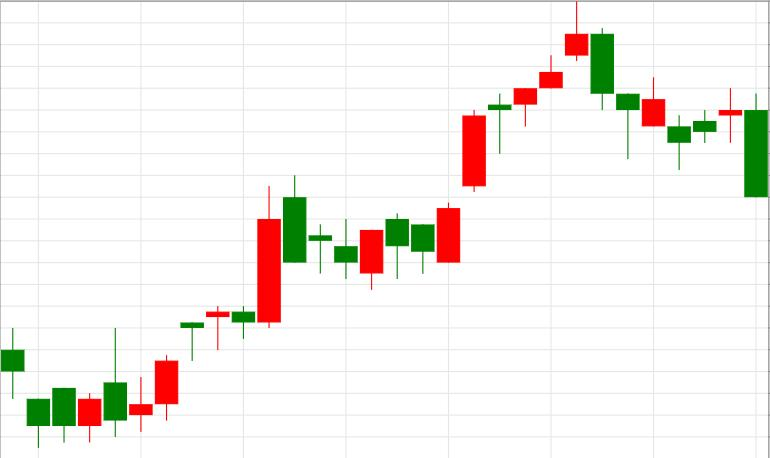shooting_star_fall: (437, 1, 589, 262)
